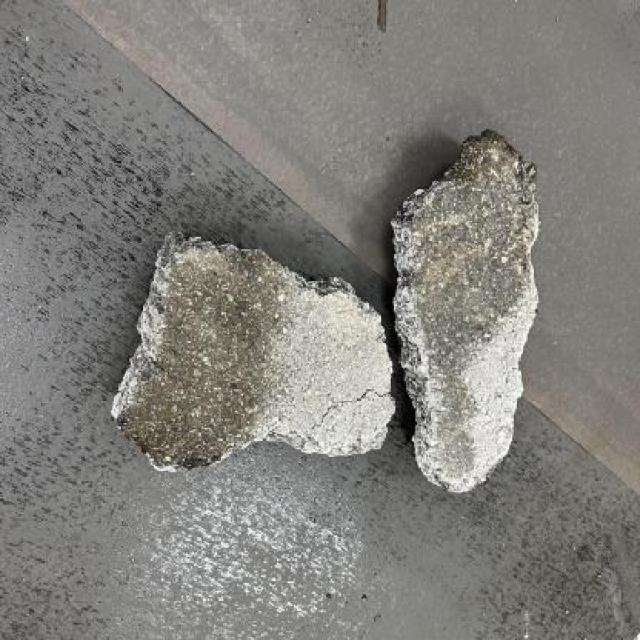Road Debris: (118, 238, 279, 476), (402, 134, 544, 351), (428, 344, 480, 490)
